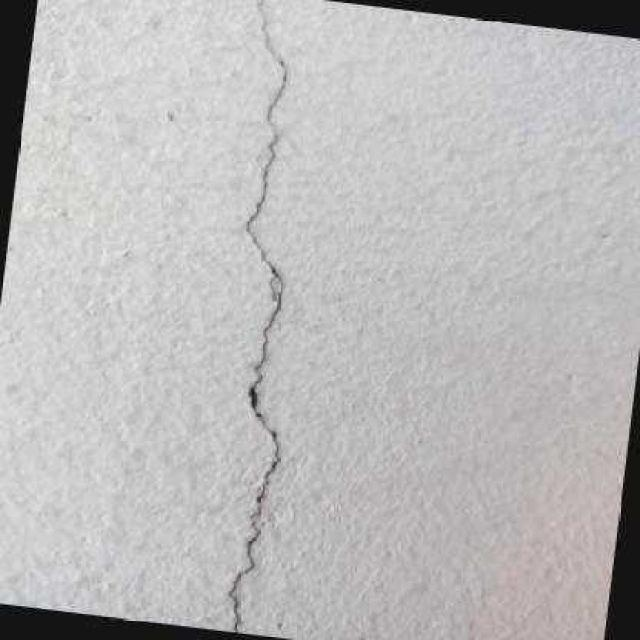D00: (228, 0, 287, 632)
